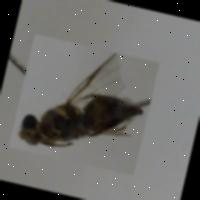Oriental-fruit-fly: (7, 32, 158, 174)
